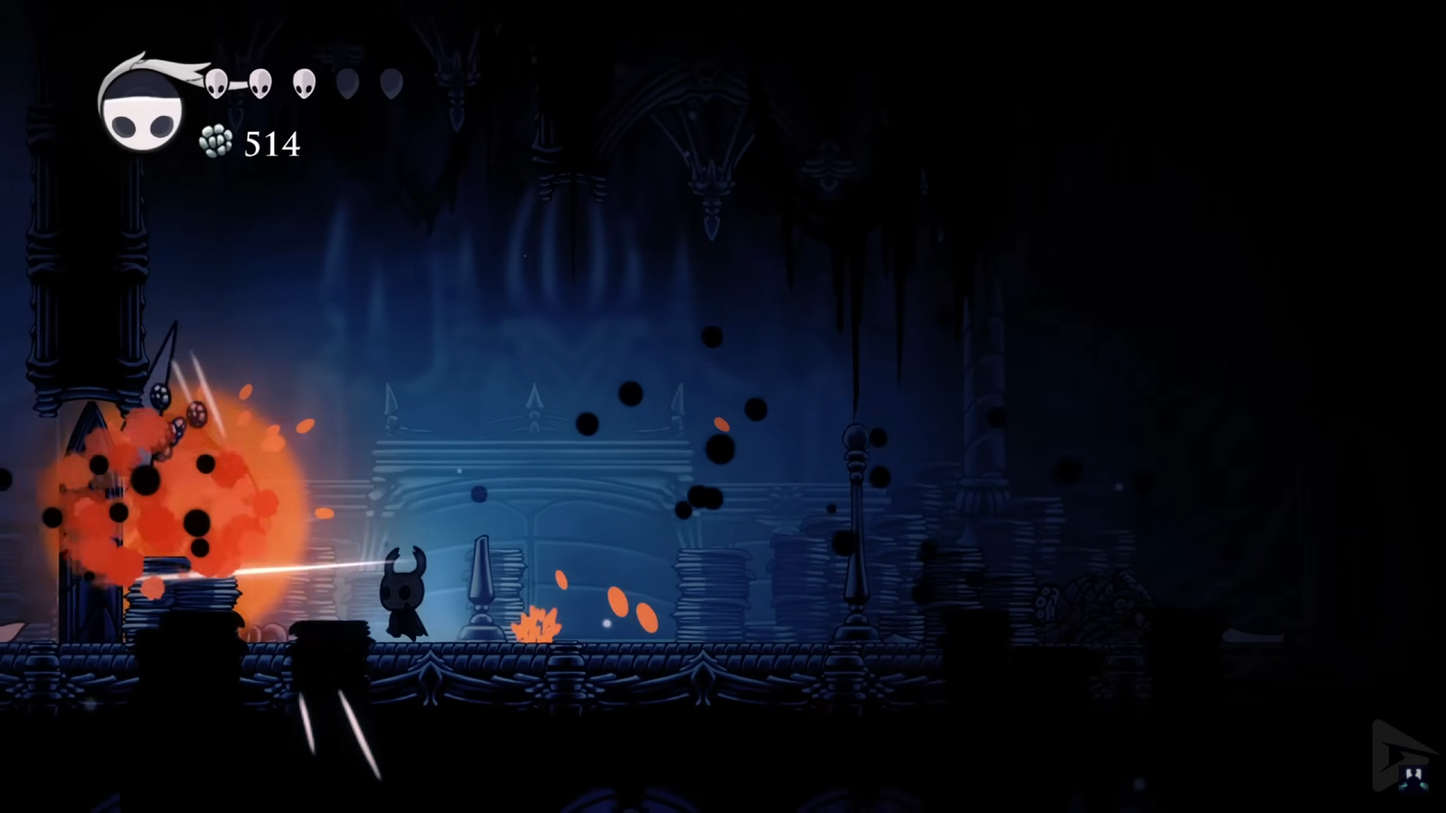HK: (375, 540, 431, 643)
